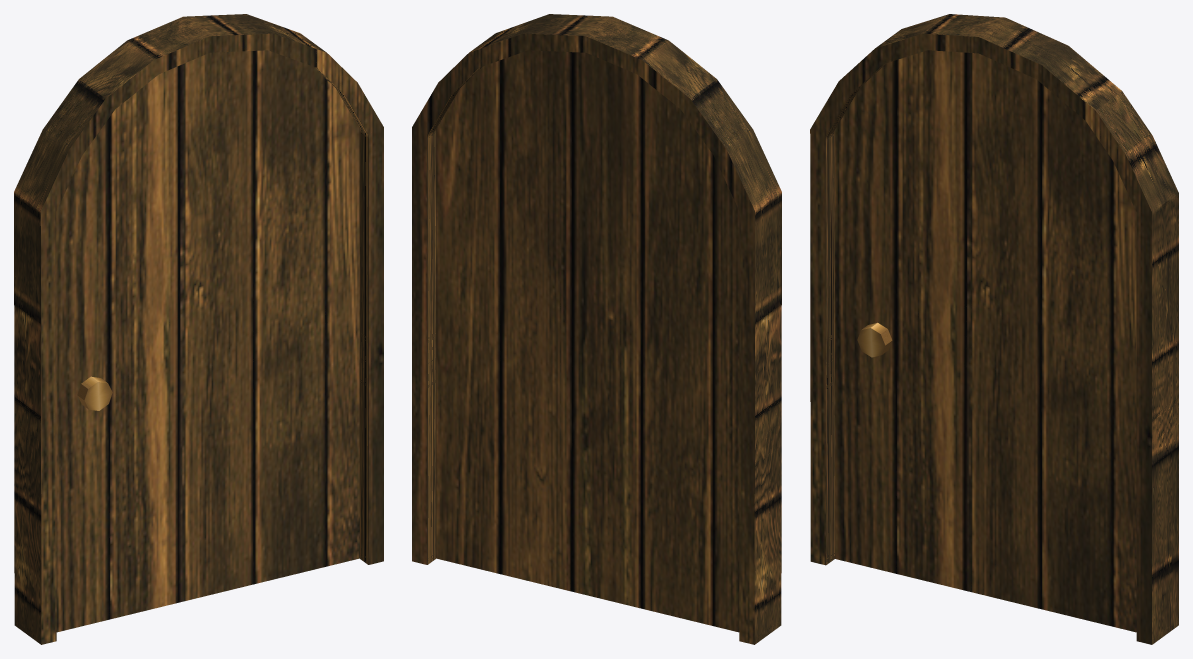
File: WOODEN_DOOR.fbx
3 views of the same model, side by side, from view 1: azimuth 30°, elevation 25°; view 2: azimuth 150°, elevation 25°; view 3: azimuth 330°, elevation 25° (orthographic).
Visible parts, largest first — view 1: DOOR, DOOR_KNOB; view 2: DOOR; view 3: DOOR, DOOR_KNOB.
Boxes of the visible parts, x1=… form: DOOR: x1=14, y1=14, x2=383, y2=644; DOOR_KNOB: x1=77, y1=376, x2=112, y2=410; DOOR: x1=412, y1=14, x2=781, y2=644; DOOR: x1=810, y1=14, x2=1178, y2=644; DOOR_KNOB: x1=857, y1=322, x2=892, y2=357.
Bounding box in the file's own units: 22.19 × 35.06 × 3.
Materials: 2 (2 with a texture image).
